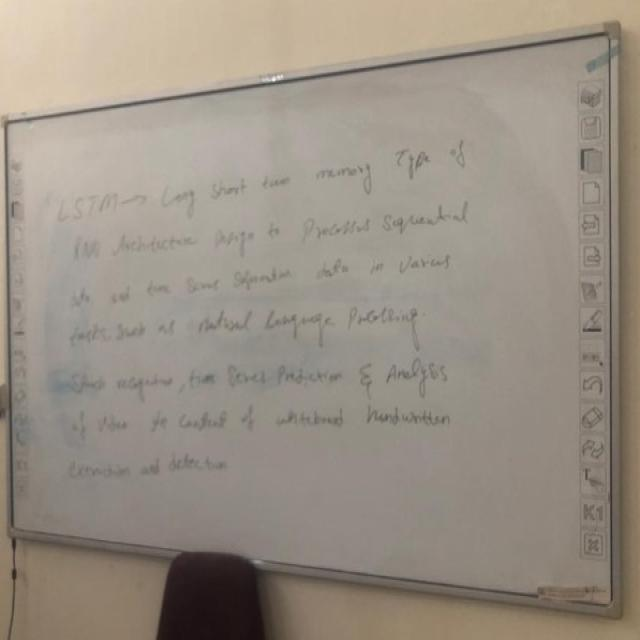White-board: (8, 31, 611, 623)
